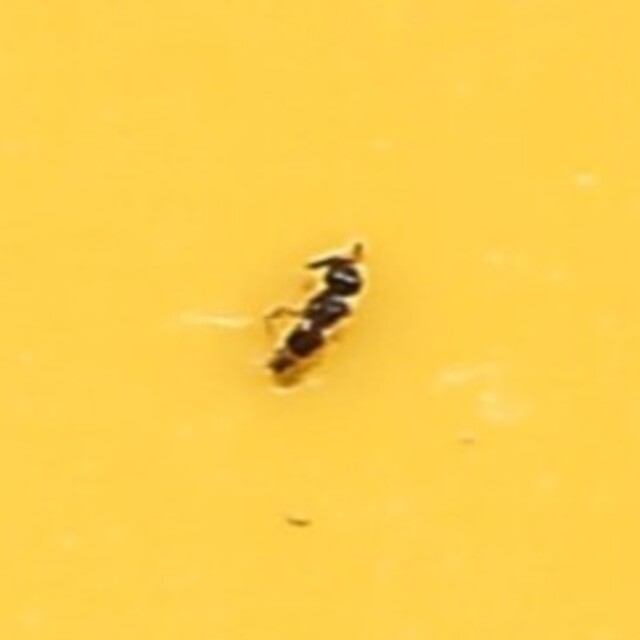Hymenoptera: (262, 242, 378, 398)
